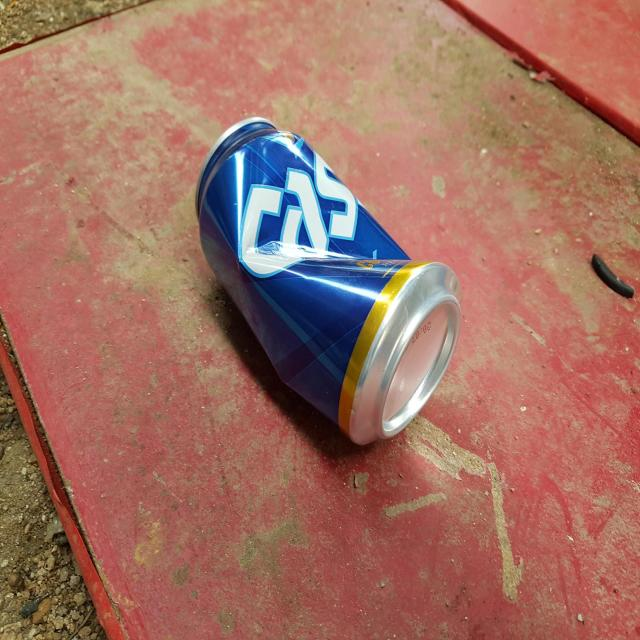can: (196, 117, 462, 445)
